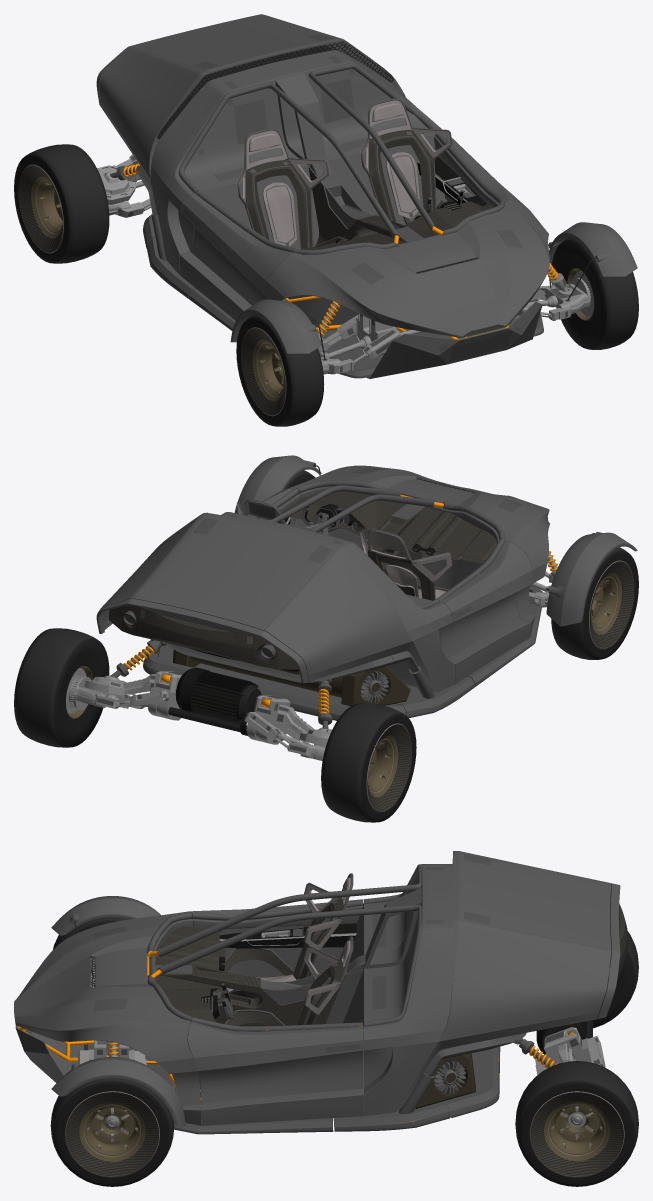
The model's file is sci_-_fi_buggy.glb.
3 renders of one model, top to bottom at view 1: azimuth 30°, elevation 25°; view 2: azimuth 150°, elevation 25°; view 3: azimuth 270°, elevation 25°, orthographic. The views are drawn at different scales.
Visible parts, largest first — view 1: main body, seat, frame, tyre, tyre back, console, fender, front suspension, main body_Atlas, rims, rim back, rear suspension (+7 smaller); view 2: main body, tyre back, frame, rear suspension, console, fender, rear, motor, seat, battery, tyre, rim back (+4 smaller); view 3: main body, frame, console, tyre back, rims, seat, rim back, tyre, fender, main body_Atlas, rear suspension, battery (+4 smaller).
Boxes of the visible parts, left/top/right/bottom form: main body: left=96, top=14, right=549, bottom=378; seat: left=236, top=98, right=461, bottom=249; frame: left=136, top=63, right=543, bottom=378; tyre: left=236, top=237, right=638, bottom=426; tyre back: left=14, top=87, right=405, bottom=263; console: left=301, top=155, right=494, bottom=249; fender: left=230, top=222, right=637, bottom=353; front suspension: left=278, top=263, right=590, bottom=374; main body_Atlas: left=133, top=15, right=522, bottom=323; rims: left=241, top=268, right=594, bottom=416; rim back: left=18, top=164, right=63, bottom=253; rear suspension: left=97, top=154, right=151, bottom=217; main body: left=96, top=465, right=549, bottom=692; tyre back: left=14, top=628, right=416, bottom=822; frame: left=143, top=480, right=543, bottom=720; rear suspension: left=66, top=640, right=332, bottom=760; console: left=281, top=492, right=496, bottom=589; fender: left=234, top=455, right=637, bottom=626; rear: left=109, top=605, right=298, bottom=669; motor: left=161, top=667, right=270, bottom=735; seat: left=236, top=499, right=452, bottom=600; battery: left=172, top=649, right=410, bottom=706; tyre: left=284, top=470, right=638, bottom=659; rim back: left=65, top=666, right=411, bottom=812; main body: left=14, top=851, right=620, bottom=1125; frame: left=17, top=864, right=526, bottom=1134; console: left=155, top=926, right=365, bottom=1026; tyre back: left=515, top=931, right=638, bottom=1186; rims: left=65, top=957, right=159, bottom=1177; seat: left=224, top=873, right=353, bottom=1026; rim back: left=529, top=1091, right=624, bottom=1177; tyre: left=50, top=917, right=174, bottom=1186; fender: left=51, top=896, right=185, bottom=1128; main body_Atlas: left=93, top=851, right=611, bottom=1052; rear suspension: left=519, top=1027, right=605, bottom=1134; battery: left=416, top=1043, right=475, bottom=1108.
Bounding box in the file's own units: 17.03 × 9.71 × 25.18.
22 materials, 12 textured.
